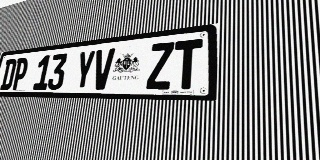1: (33, 55, 53, 90)
3: (47, 53, 68, 90)
D: (0, 58, 17, 90)
P: (11, 57, 29, 90)
T: (172, 39, 203, 89)
V: (91, 48, 115, 90)
Y: (73, 50, 96, 90)
Z: (146, 42, 175, 89)
